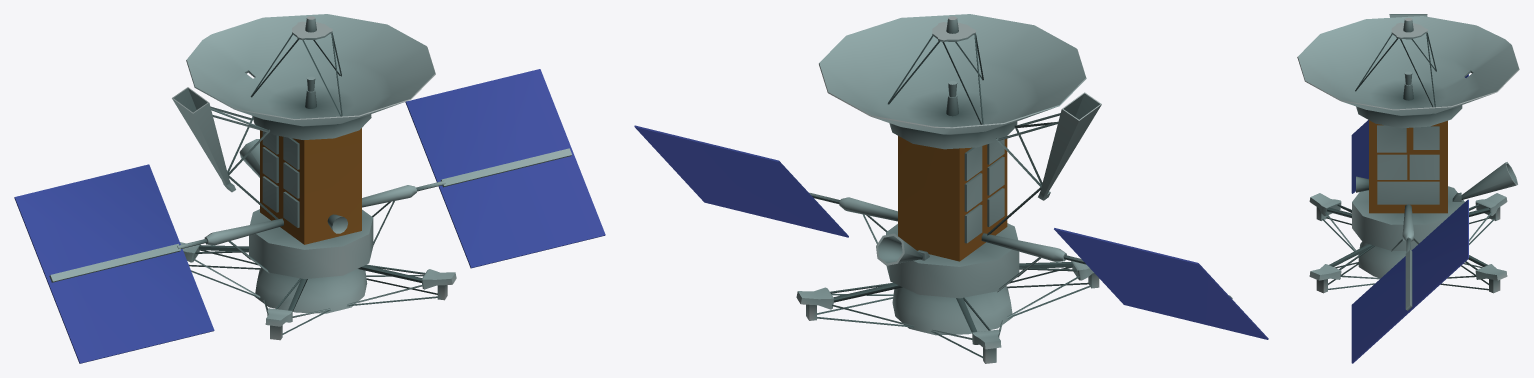
3 renders of one model, left to right at view 1: azimuth 30°, elevation 25°; view 2: azimuth 150°, elevation 25°; view 3: azimuth 270°, elevation 25°, orthographic. The views are drawn at different scales.
Visible parts, largest first — view 1: base.608; view 2: base.608; view 3: base.608.
Part boxes in pixels (x1,y1,x2,y2): base.608: [14, 14, 605, 363]; base.608: [634, 14, 1268, 363]; base.608: [1297, 14, 1519, 363].
Bounding box in the file's own units: 0.5 × 0.2481 × 0.2059.
